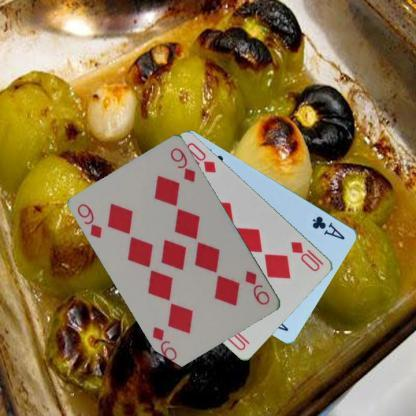10d: (288, 238, 326, 272)
9d: (242, 267, 272, 307), (75, 200, 104, 240)
Ac: (310, 213, 346, 240)
